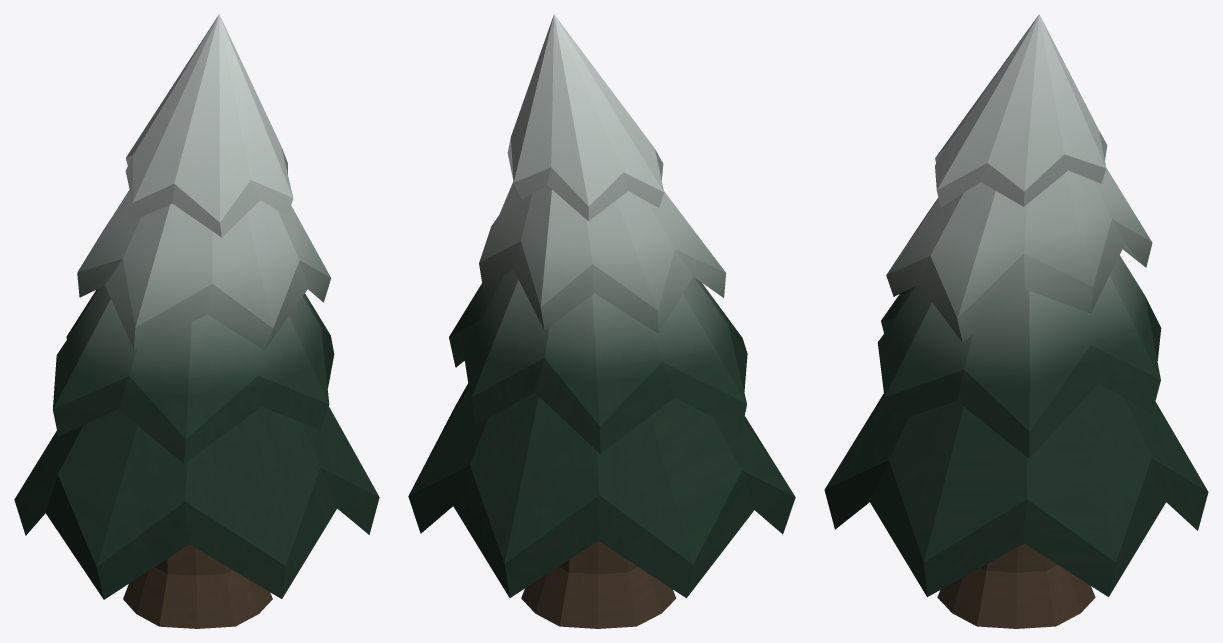
File: Tree_pine_C_snow.obj
3 renders of one model, left to right at view 1: azimuth 30°, elevation 25°; view 2: azimuth 150°, elevation 25°; view 3: azimuth 270°, elevation 25°, orthographic. The views are drawn at different scales.
Parts seen in each view (by area): view 1: Tree_pine_C_snow; view 2: Tree_pine_C_snow; view 3: Tree_pine_C_snow.
Part boxes in pixels (box(x1,y1,x2,y2)): Tree_pine_C_snow: box(14, 14, 379, 628); Tree_pine_C_snow: box(408, 14, 795, 628); Tree_pine_C_snow: box(824, 14, 1208, 628).
Bounding box in the file's own units: 4.58 × 8.31 × 4.82.
